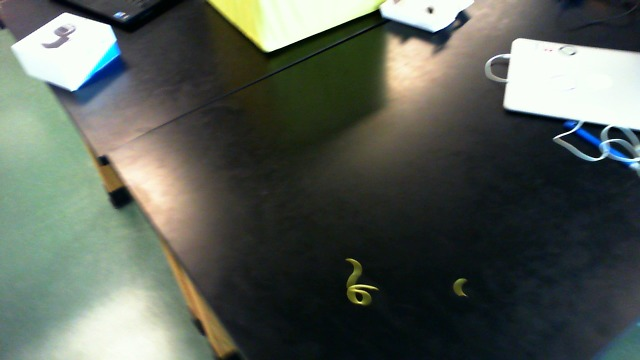cube: (204, 1, 386, 56)
